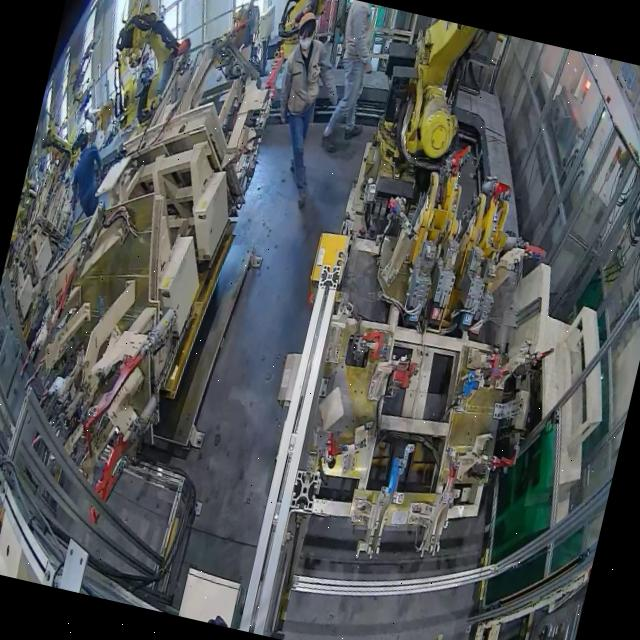Person: (258, 5, 356, 194), (315, 0, 390, 158), (55, 133, 114, 244)
